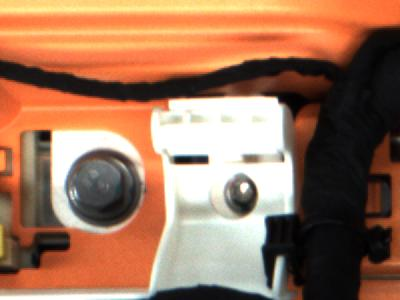nut_b: (61, 148, 145, 228)
